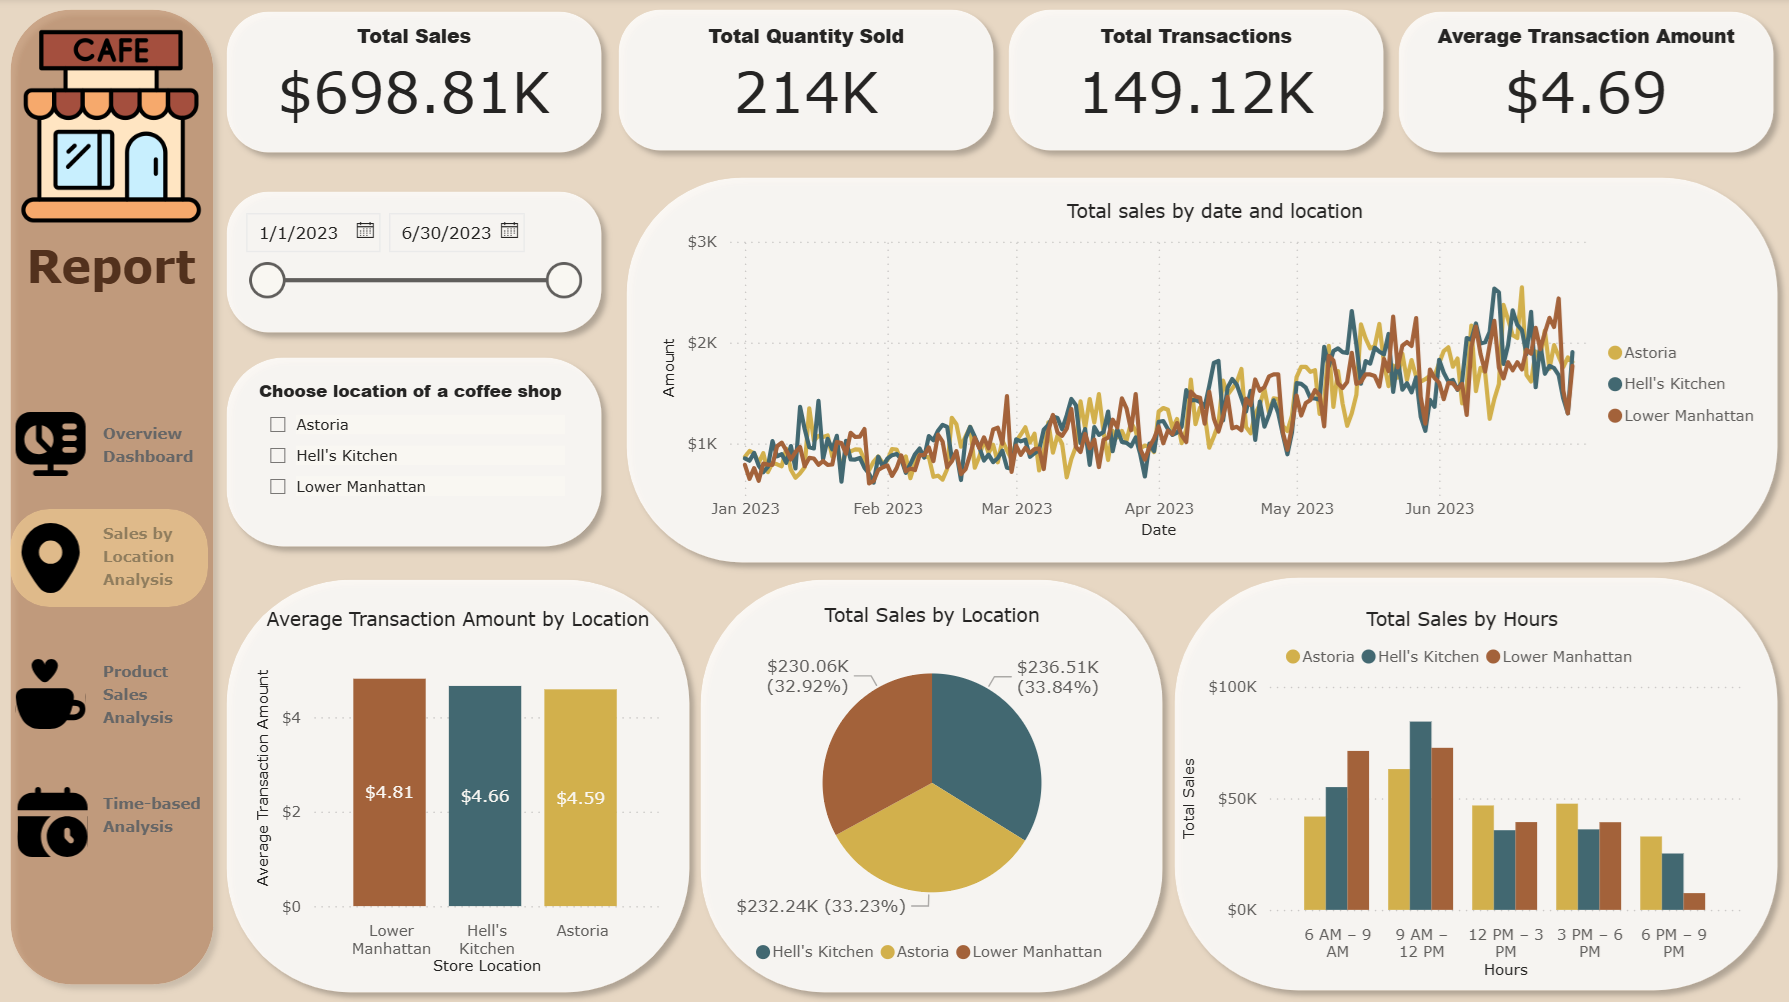

This screenshot's page, from the dashboard's own definition file:
{"tool":"powerbi","page":{"name":"Location Performance","canvas":[1280,720],"ordinal":2},"visuals":[{"type":"shape","box":[0,0,162.9,714.3],"z":0},{"type":"shape","box":[154.3,407.1,348.6,312.9],"z":1000},{"type":"shape","box":[492.9,407.1,348,312.9],"z":2000},{"type":"shape","box":[831.4,405.7,448.6,312.9],"z":3000},{"type":"shape","box":[154.3,248.6,285.7,152.9],"z":4000},{"type":"shape","box":[154.3,130,285.7,118.6],"z":5000},{"type":"shape","box":[440,120,840,292.9],"z":6000},{"type":"shape","box":[992.1,0.7,285.7,118.6],"z":7000},{"type":"shape","box":[712.1,0,285.7,118.6],"z":8000},{"type":"shape","box":[434.3,0,285.7,118.6],"z":9000},{"type":"shape","box":[154.3,1.4,285.7,118.6],"z":10000},{"type":"slicer","title":"Choose location of a coffee shop","fields":{"Values":["Transactions.store_location"]},"box":[181.4,272.9,228.6,104.3],"z":11000},{"type":"textbox","box":[70,297.1,84.3,47.1],"z":12000},{"type":"card","title":"Total Sales","fields":{"Values":["Sum(Transactions.total_sales)"]},"box":[182.9,18.6,228.6,78.6],"z":13000},{"type":"textbox","box":[70,368.6,80,84.3],"z":14000},{"type":"card","title":"Total Quantity Sold","fields":{"Values":["Sum(Transactions.transaction_qty)"]},"box":[470,18.6,214.3,78.6],"z":15000},{"type":"card","title":"Total Transactions","fields":{"Values":["CountNonNull(Transactions.transaction_id)"]},"box":[751.4,18.6,208.6,78.6],"z":16000},{"type":"textbox","box":[70,467.1,84.3,67.1],"z":17000},{"type":"card","title":"Average Transaction Amount","fields":{"Values":["Transactions.Średnia Wartość Transakcji"]},"box":[1018.6,18.6,231.4,78.6],"z":18000},{"type":"lineChart","title":"Total sales by date and location","fields":{"Y":["Sum(Transactions.total_sales)"],"Category":["Transactions.transaction_date.Variation.Date Hierarchy.Year"],"Series":["Transactions.store_location"]},"box":[470,144.3,798.6,247.1],"z":19000},{"type":"textbox","box":[70,561.4,88.6,55.7],"z":20000},{"type":"slicer","fields":{"Values":["Transactions.transaction_date"]},"box":[164.3,144.3,261.4,91.4],"z":21000},{"type":"clusteredColumnChart","title":"Total Sales by Hours","fields":{"Series":["Transactions.store_location"],"Y":["Sum(Transactions.total_sales)"],"Category":["Transactions.hour_block"]},"box":[841.4,435.7,408.6,270],"z":22000},{"type":"pieChart","title":"Total Sales by Location","fields":{"Category":["Transactions.store_location"],"Y":["Sum(Transactions.total_sales)"]},"box":[511.4,432.9,311.4,267.1],"z":23000},{"type":"clusteredColumnChart","title":"Average Transaction Amount by Location","fields":{"Y":["Transactions.Średnia Wartość Transakcji"],"Category":["Transactions.store_location"]},"box":[180,435.7,297.1,267.1],"z":24000},{"type":"actionButton","box":[8.6,284.7,141.4,70],"z":25000},{"type":"actionButton","box":[8.6,366.1,141.4,70],"z":26000},{"type":"actionButton","box":[8.6,463.3,141.4,70],"z":27000},{"type":"actionButton","box":[10,554.3,141.4,70],"z":28000},{"type":"image","box":[5.7,17.1,150,150],"z":29000},{"type":"textbox","box":[10,167.1,141.4,67.1],"z":30000}]}

Visuals, with their boxes in screenshot pixels (x1, y1, x2, y2), scaled from the page's 1280x720 canvas onto the 1789x1002 screenshot:
shape: <box>0,0,228,994</box>
shape: <box>216,567,703,1001</box>
shape: <box>689,567,1175,1001</box>
shape: <box>1162,565,1788,1000</box>
shape: <box>216,346,615,559</box>
shape: <box>216,181,615,346</box>
shape: <box>615,167,1788,575</box>
shape: <box>1387,1,1786,166</box>
shape: <box>995,0,1395,165</box>
shape: <box>607,0,1006,165</box>
shape: <box>216,2,615,167</box>
"Choose location of a coffee shop" slicer: <box>254,380,573,525</box>
textbox: <box>98,413,216,479</box>
"Total Sales" card: <box>256,26,575,135</box>
textbox: <box>98,513,210,630</box>
"Total Quantity Sold" card: <box>657,26,956,135</box>
"Total Transactions" card: <box>1050,26,1342,135</box>
textbox: <box>98,650,216,743</box>
"Average Transaction Amount" card: <box>1424,26,1747,135</box>
"Total sales by date and location" lineChart: <box>657,201,1773,545</box>
textbox: <box>98,781,222,859</box>
slicer - Transactions.transaction_date: <box>230,201,595,328</box>
"Total Sales by Hours" clusteredColumnChart: <box>1176,606,1747,982</box>
"Total Sales by Location" pieChart: <box>715,602,1150,974</box>
"Average Transaction Amount by Location" clusteredColumnChart: <box>252,606,667,978</box>
actionButton: <box>12,396,210,494</box>
actionButton: <box>12,509,210,607</box>
actionButton: <box>12,645,210,742</box>
actionButton: <box>14,771,212,869</box>
image: <box>8,24,218,233</box>
textbox: <box>14,233,212,326</box>
